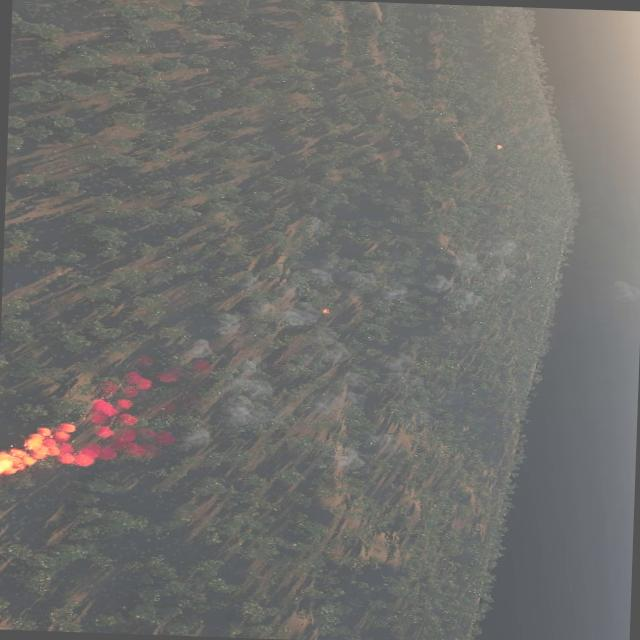fire: (0, 449, 16, 475), (317, 308, 329, 315), (493, 144, 502, 150)
smoke: (181, 302, 408, 454), (18, 361, 182, 473), (425, 238, 517, 316), (308, 265, 406, 300), (340, 448, 362, 468)
